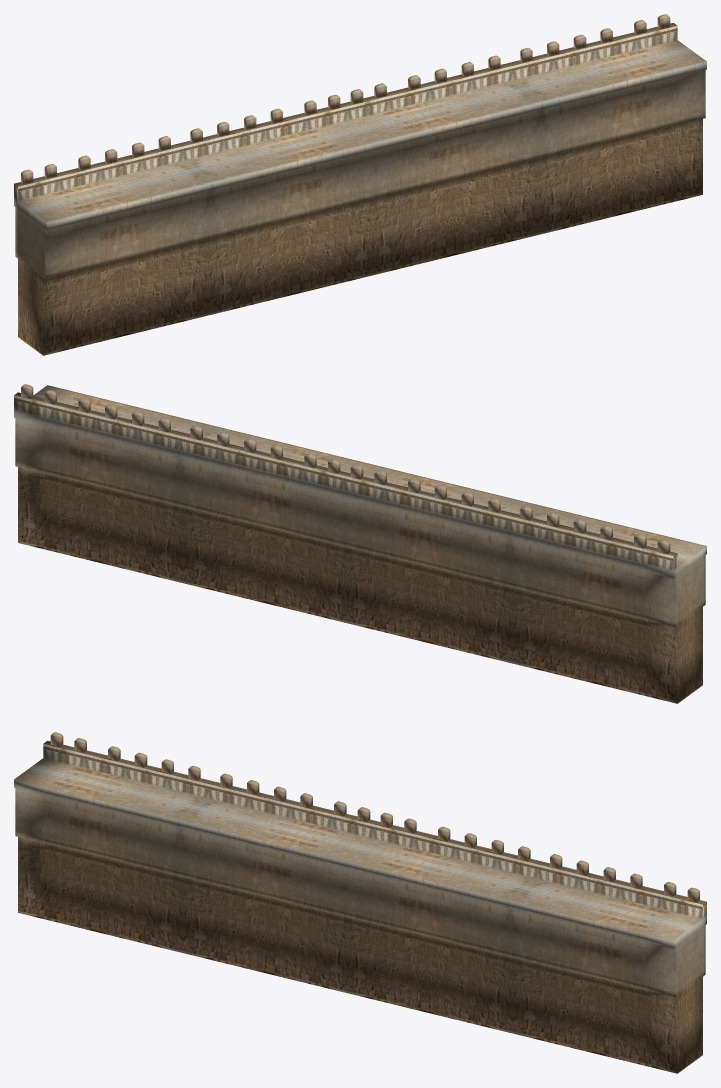
File: wall_large.fbx
3 views of the same model, one above another, from view 1: azimuth 30°, elevation 25°; view 2: azimuth 150°, elevation 25°; view 3: azimuth 330°, elevation 25° (orthographic).
Parts seen in each view (by area): view 1: U3DMesh; view 2: U3DMesh; view 3: U3DMesh.
Boxes of the visible parts, x1=… form: U3DMesh: x1=14, y1=14, x2=706, y2=355; U3DMesh: x1=14, y1=384, x2=706, y2=703; U3DMesh: x1=14, y1=732, x2=706, y2=1073.
Bounding box in the file's own units: 1109 × 261 × 97.38.
